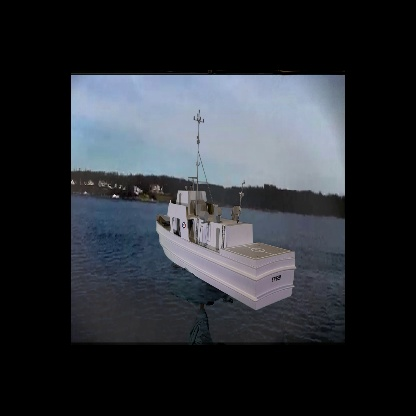YP689: (155, 111, 296, 312)
